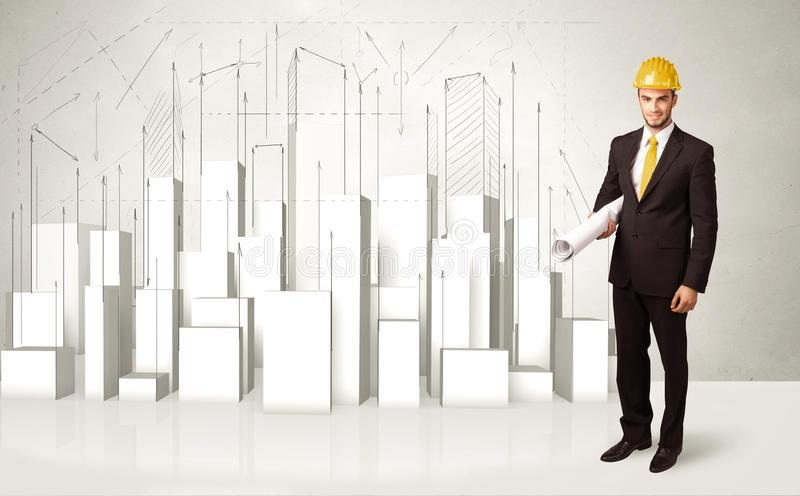helmet: (634, 56, 682, 91)
